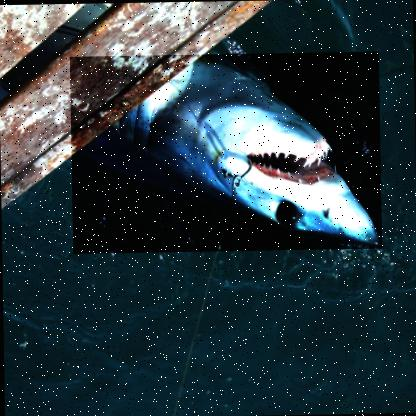mako-shark: (67, 48, 380, 252)
